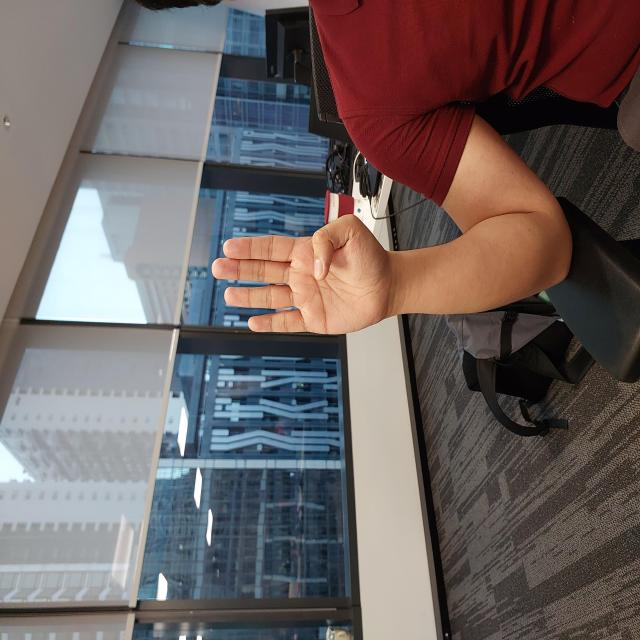B: (304, 210, 429, 394)
